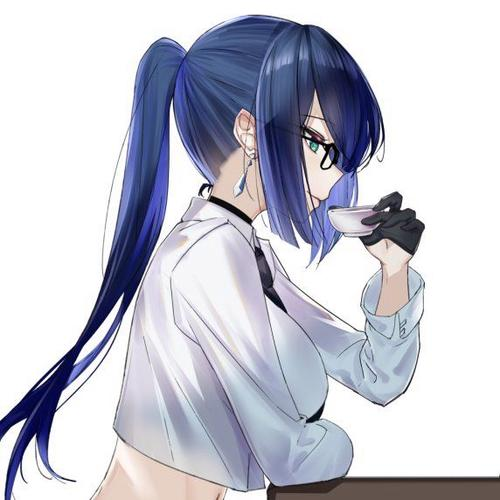夜兰: (85, 13, 427, 500)
